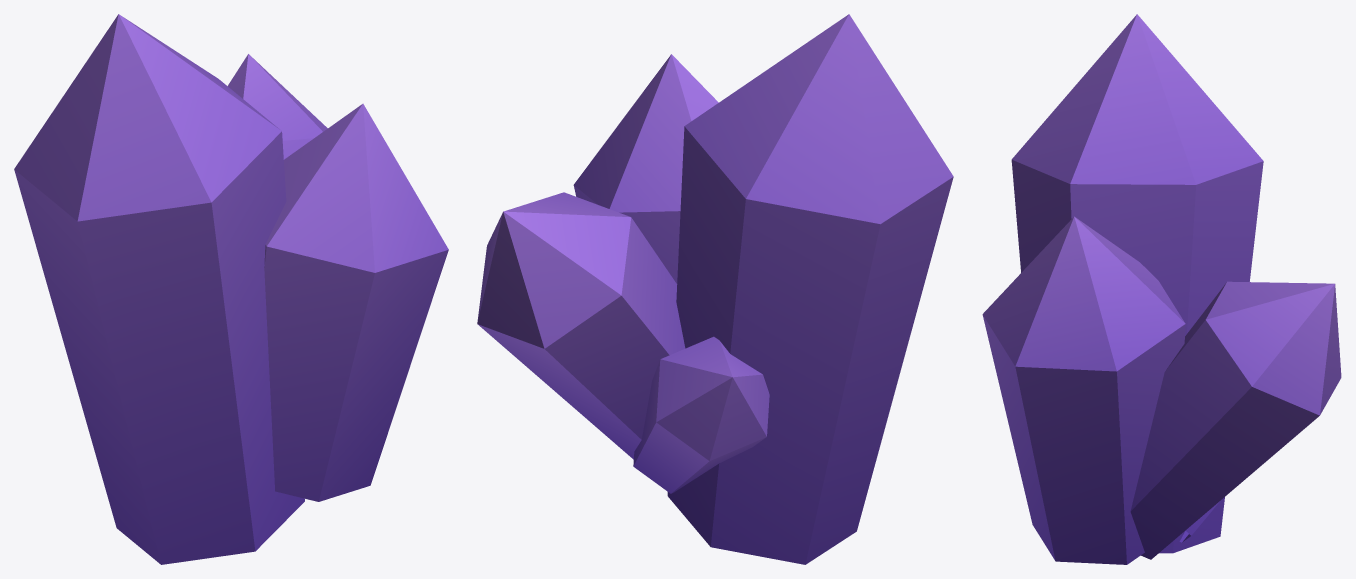
Rendered from Crystal1.fbx.
The picture shows the model from 3 angles, left to right: view 1: azimuth 30°, elevation 25°; view 2: azimuth 150°, elevation 25°; view 3: azimuth 270°, elevation 25°; orthographic projection. The views are drawn at different scales.
Parts seen in each view (by area): view 1: Crystal 1; view 2: Crystal 1; view 3: Crystal 1.
Part boxes in pixels (left/top/right/bottom): Crystal 1: left=14, top=14, right=448, bottom=564; Crystal 1: left=477, top=14, right=953, bottom=564; Crystal 1: left=982, top=14, right=1341, bottom=564.
Bounding box in the file's own units: 43.56 × 60.35 × 39.52.
